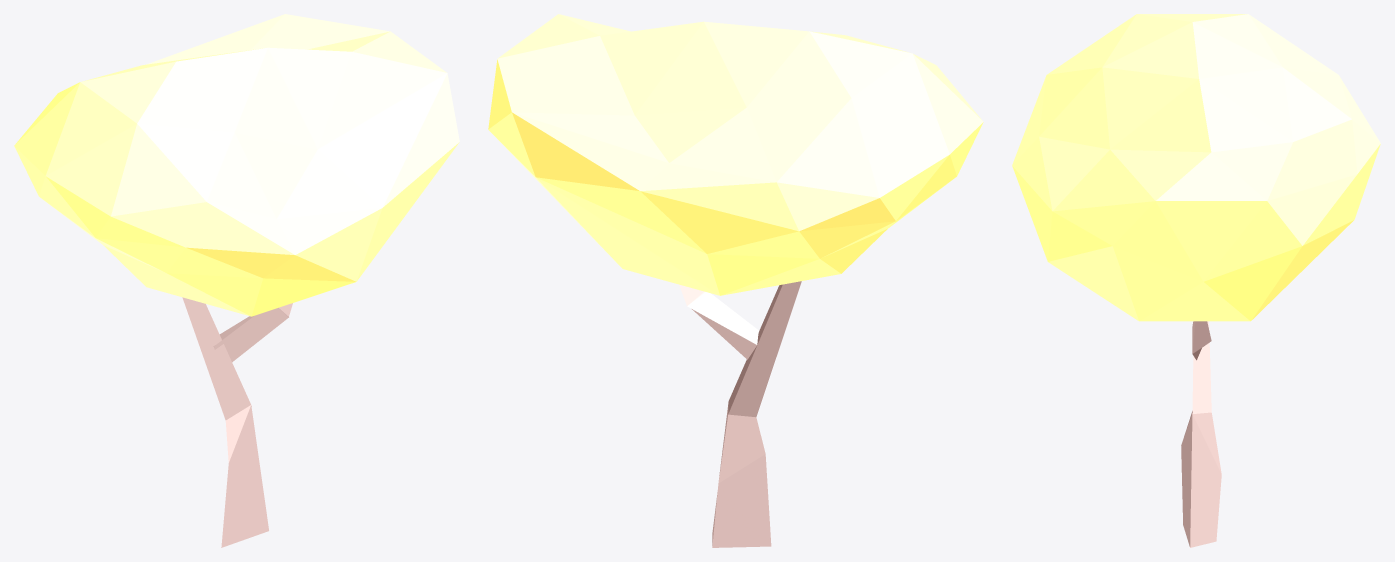
The model's file is tree.glb.
3 views of the same model, side by side, from view 1: azimuth 30°, elevation 25°; view 2: azimuth 150°, elevation 25°; view 3: azimuth 270°, elevation 25° (orthographic). The views are drawn at different scales.
Parts seen in each view (by area): view 1: tree; view 2: tree; view 3: tree.
Part boxes in pixels (x1,y1,x2,y2): tree: [14, 14, 459, 547]; tree: [488, 14, 983, 547]; tree: [1012, 14, 1380, 547].
Bounding box in the file's own units: 2.41 × 2.96 × 2.04.
